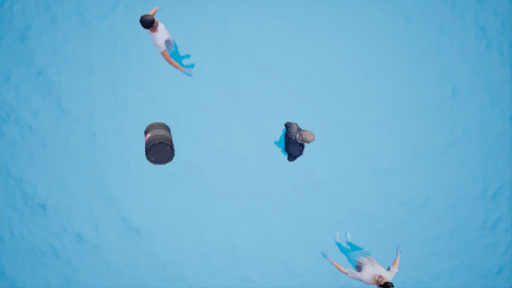person: (139, 14, 204, 91), (331, 228, 401, 288), (273, 120, 318, 166)
